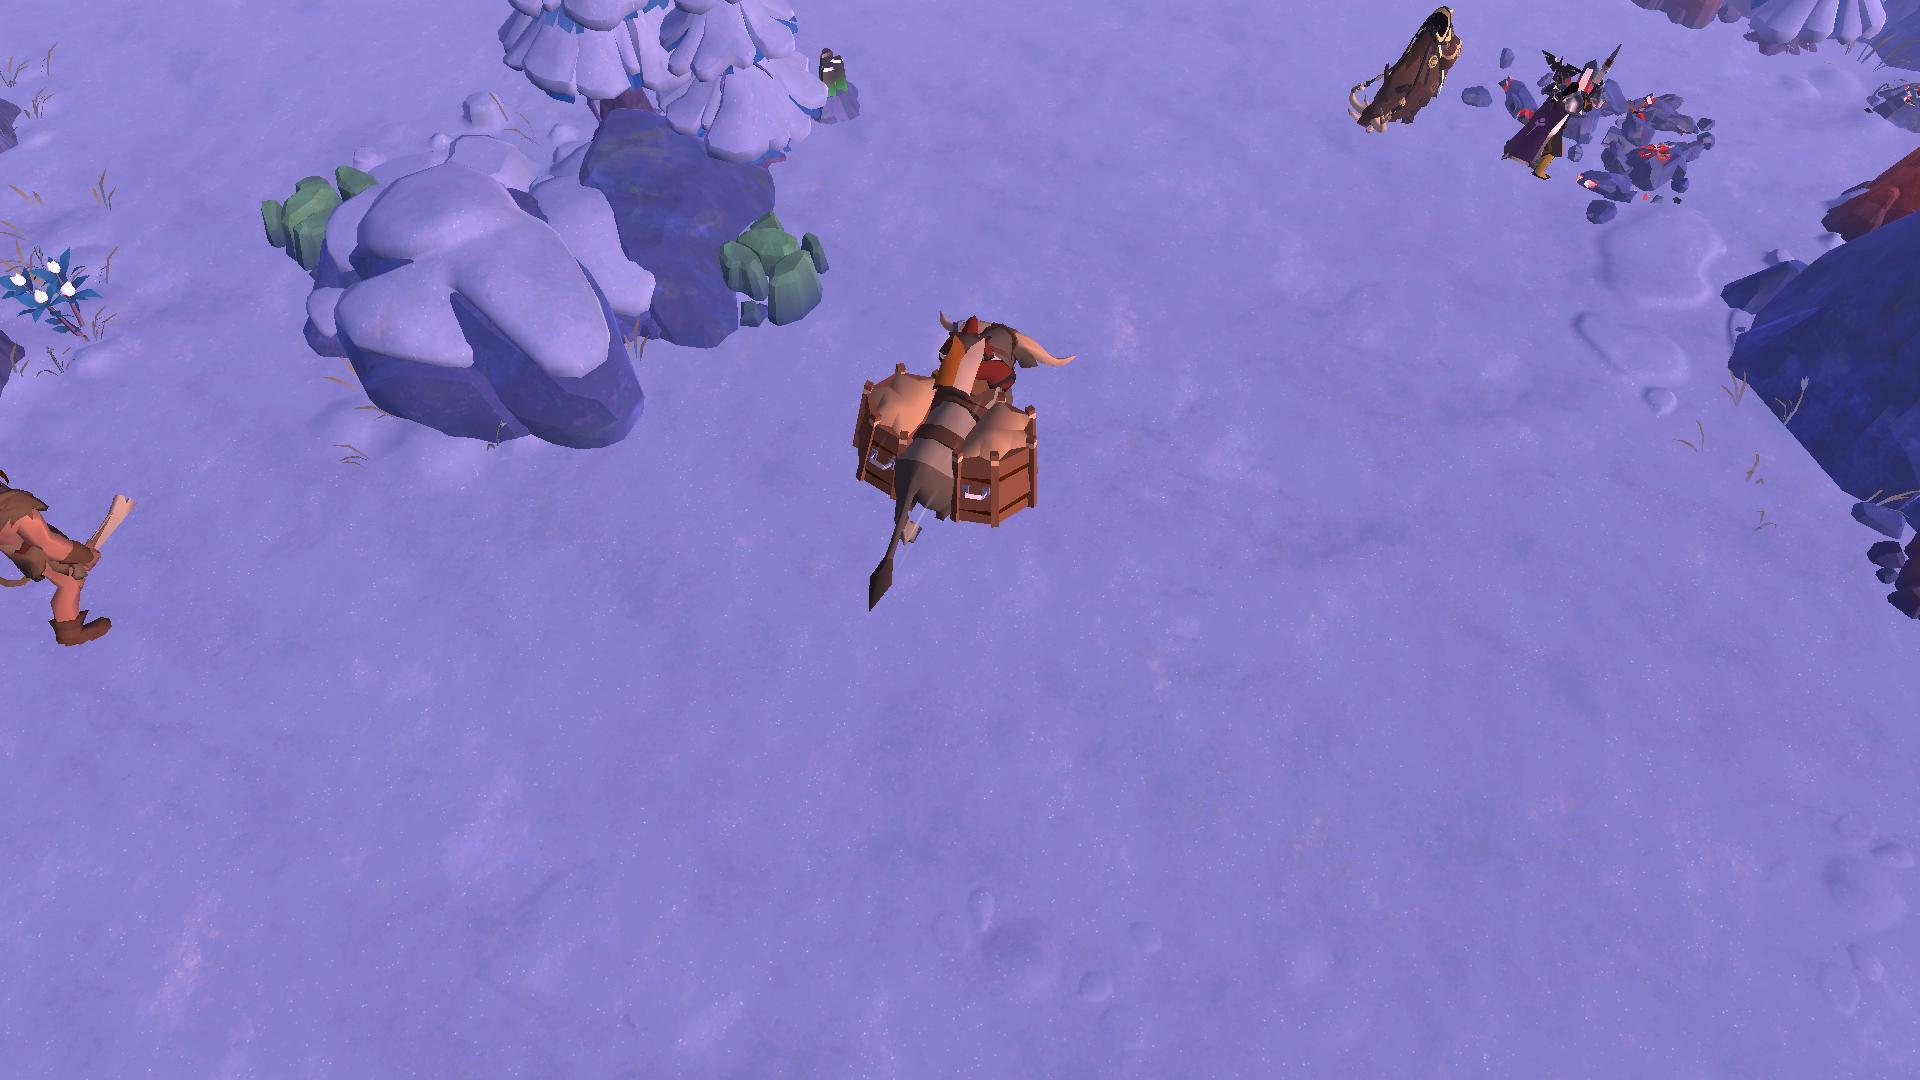enemy_factionKeeper: (0, 455, 120, 655)
fiber_t4: (4, 244, 96, 347)
ore_t3: (807, 42, 847, 91)
rock_t3: (243, 164, 398, 280), (703, 214, 839, 336)
rock_t5: (1829, 140, 1920, 249)
